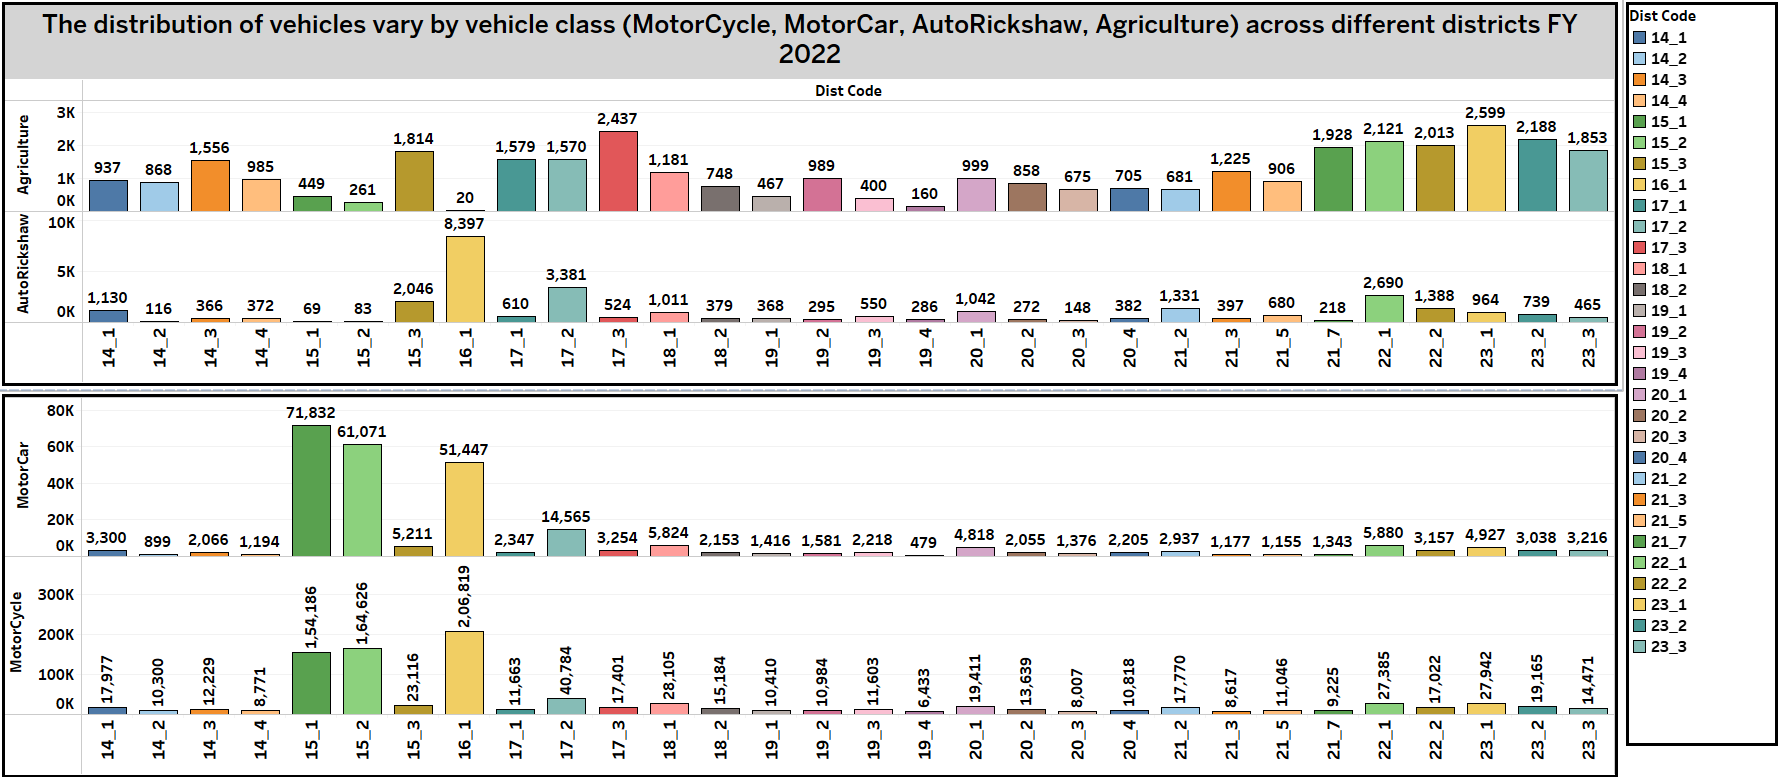

The page's visual inventory and layout, read from the dashboard file:
{"tool":"tableau","page":{"name":"Dashboard 8","canvas":[1800,800],"ordinal":10},"visuals":[{"type":"worksheet","title":"The distribution of vehicles vary by vehicle class (MotorCycle, MotorCar, AutoRickshaw, Agriculture) across different di","mark":"Automatic","rows":["vehicleClass_Agriculture","vehicleClass_AutoRickshaw"],"cols":["dist_code"],"box":[8,8,1624,392]},{"type":"legend","title":"The distribution of vehicles vary by vehicle class (MotorCycle, MotorCar, AutoRickshaw, Agriculture) across different di","param":"[federated.0o7fg4m1dvu29t17ewmwn1jh5kk7].[none:district:nk]","box":[1632,8,160,752]},{"type":"worksheet","title":"The distribution of vehicles vary by vehicle class (MotorCycle, MotorCar, AutoRickshaw, Agriculture) across different di","mark":"Automatic","rows":["vehicleClass_MotorCar","vehicleClass_MotorCycle"],"cols":["dist_code"],"box":[8,400,1624,392]}]}

Visuals, with their boxes in screenshot pixels (x1, y1, x2, y2), scaled from the page's 1800x800 canvas onto the 1778x777 screenshot:
"The distribution of vehicles vary by vehicle class (MotorCycle, MotorCar, AutoRickshaw, Agriculture) across different di" worksheet: [left=8, top=8, right=1612, bottom=388]
"The distribution of vehicles vary by vehicle class (MotorCycle, MotorCar, AutoRickshaw, Agriculture) across different di" legend: [left=1612, top=8, right=1770, bottom=738]
"The distribution of vehicles vary by vehicle class (MotorCycle, MotorCar, AutoRickshaw, Agriculture) across different di" worksheet: [left=8, top=388, right=1612, bottom=769]
